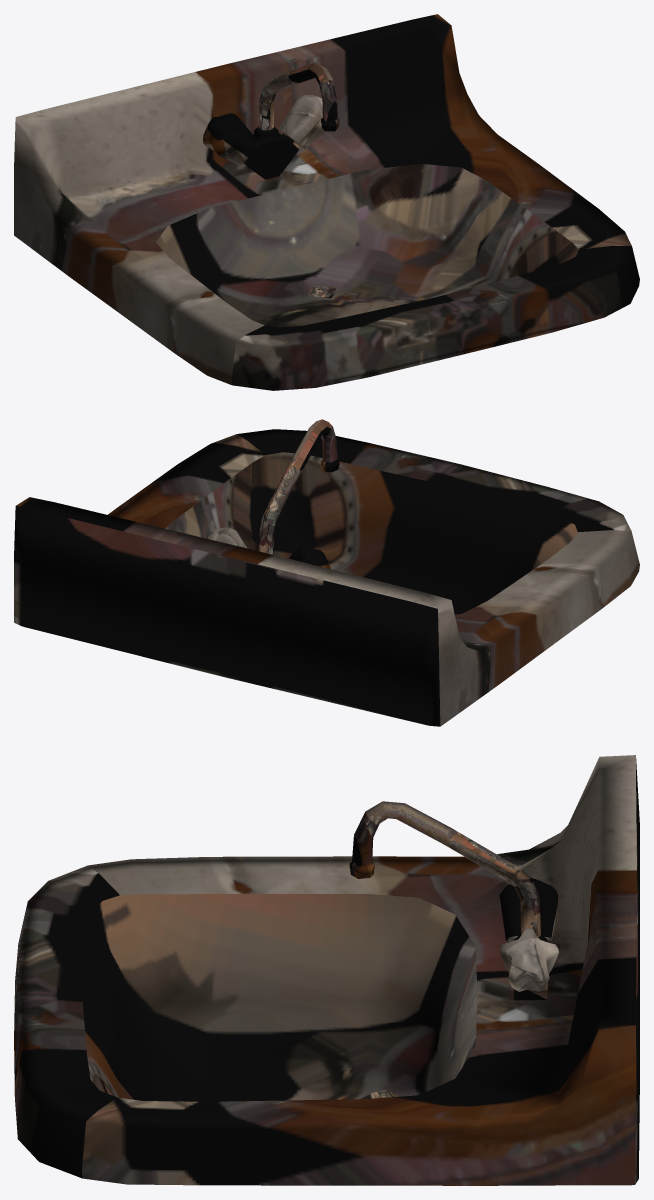
Rendered from sink.fbx.
3 renders of one model, top to bottom at view 1: azimuth 30°, elevation 25°; view 2: azimuth 150°, elevation 25°; view 3: azimuth 270°, elevation 25°, orthographic. The views are drawn at different scales.
Parts seen in each view (by area): view 1: sink; view 2: sink; view 3: sink.
Boxes of the visible parts, x1,y1,x2,y2 form: sink: (14, 14, 639, 390); sink: (14, 419, 639, 726); sink: (14, 755, 639, 1185).
Bounding box in the file's own units: 92.08 × 48.7 × 88.13.
